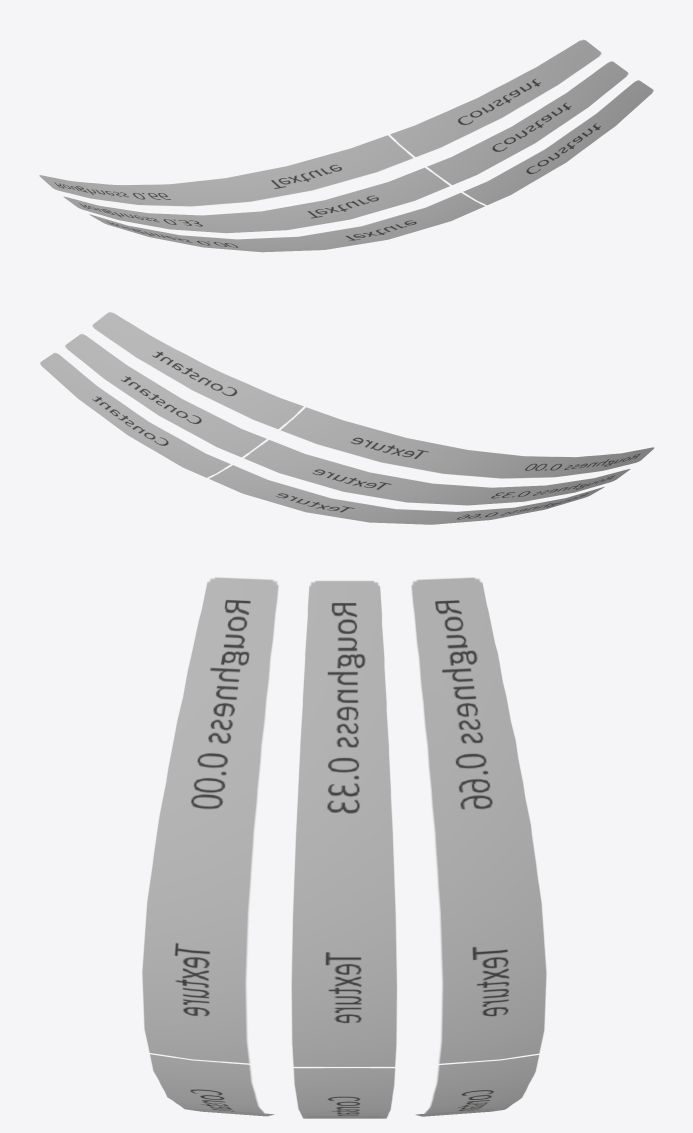
File: RoughnessTest.glb
3 renders of one model, top to bottom at view 1: azimuth 30°, elevation 25°; view 2: azimuth 150°, elevation 25°; view 3: azimuth 270°, elevation 25°, orthographic. The views are drawn at different scales.
Parts seen in each view (by area): view 1: Tex, Const; view 2: Tex, Const; view 3: Tex, Const.
Part boxes in pixels (<box>): Tex: <box>39,135,484,252</box>; Const: <box>390,39,653,205</box>; Tex: <box>209,407,654,524</box>; Const: <box>40,312,303,477</box>; Tex: <box>142,577,546,1066</box>; Const: <box>149,1054,539,1118</box>.
Bounding box in the file's own units: 13.24 × 1.89 × 5.23.
Materials: 6 (6 with a texture image).
